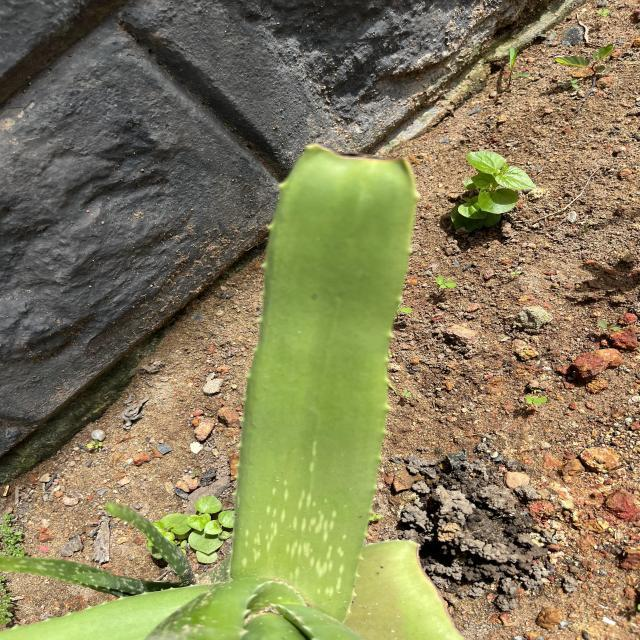Aloe vera: (227, 142, 422, 627)
